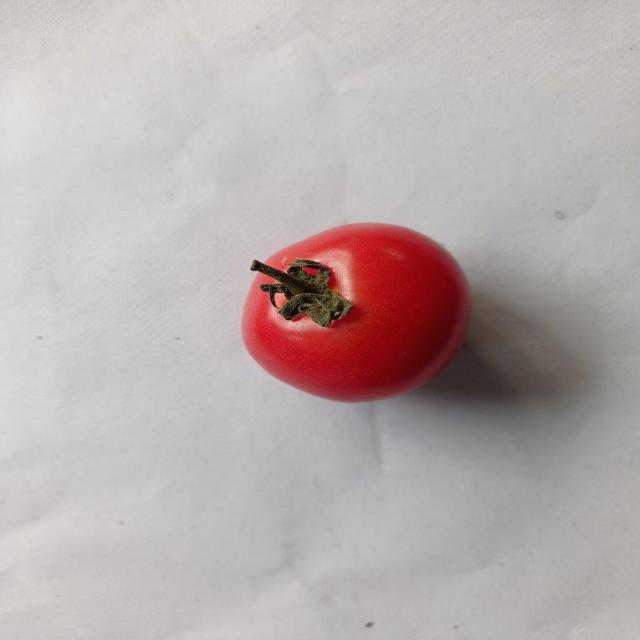Tomato: (234, 215, 477, 404)
